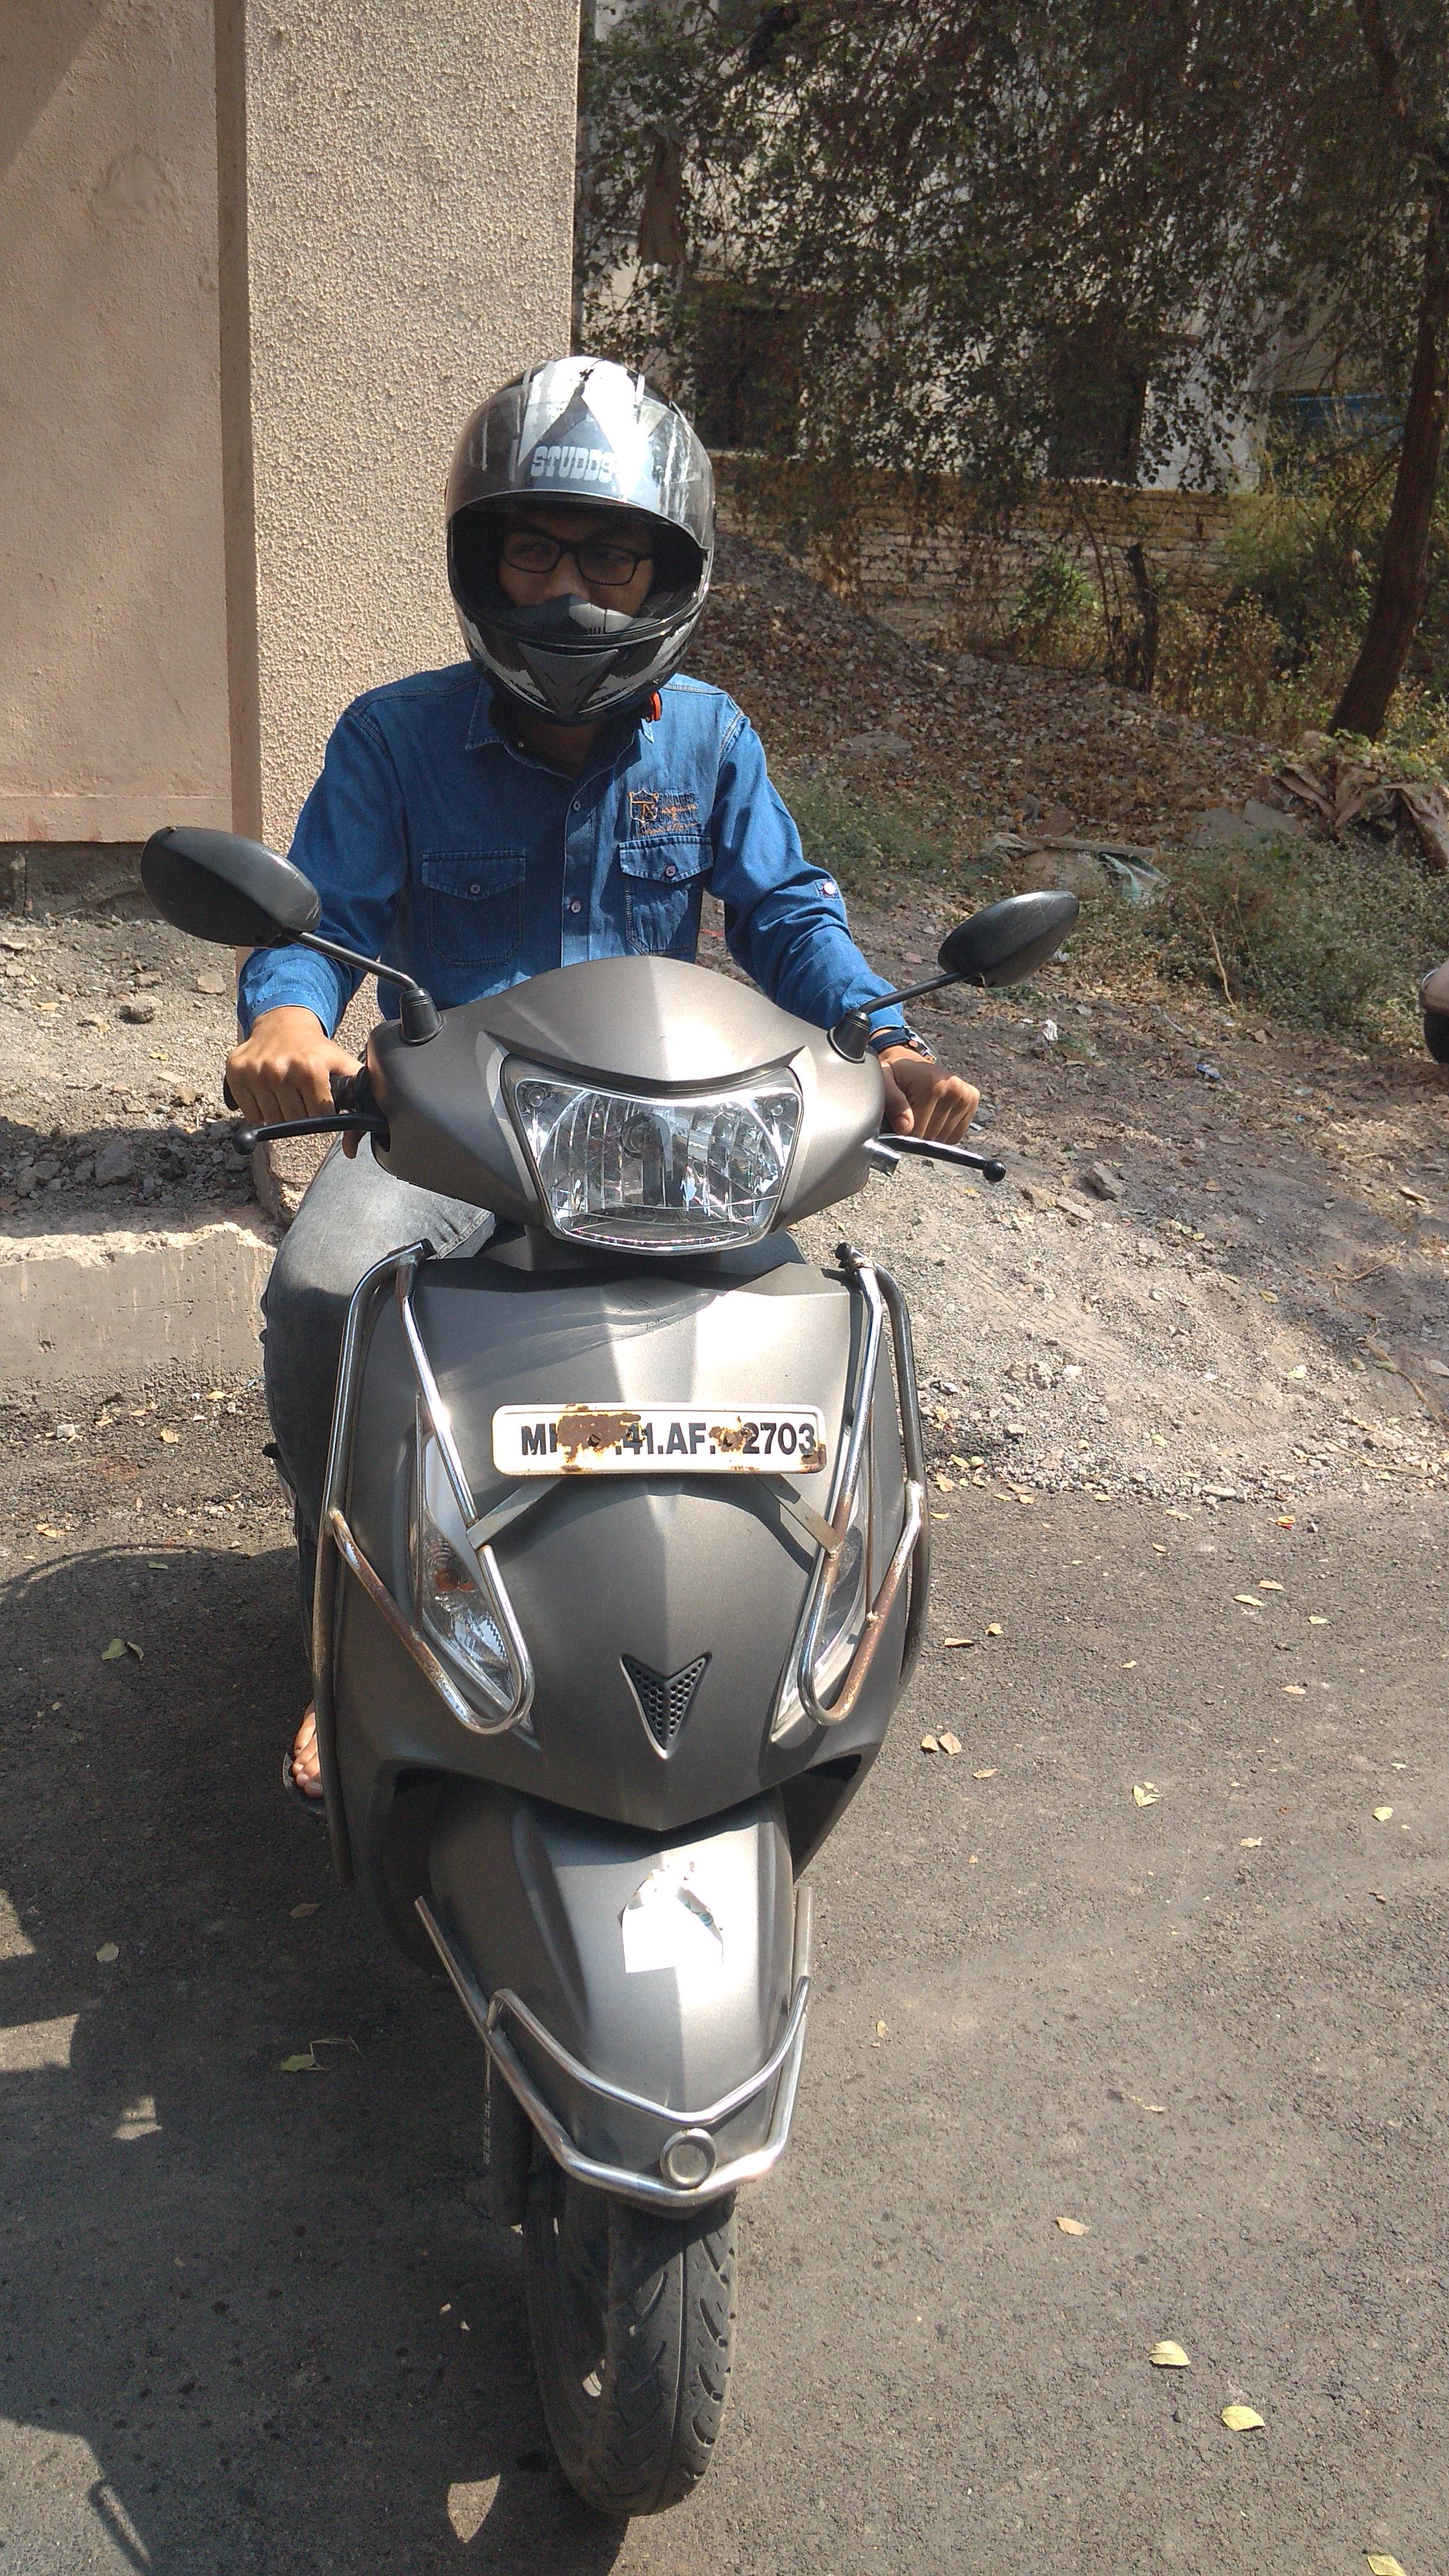helmet: (180, 343, 984, 1499)
